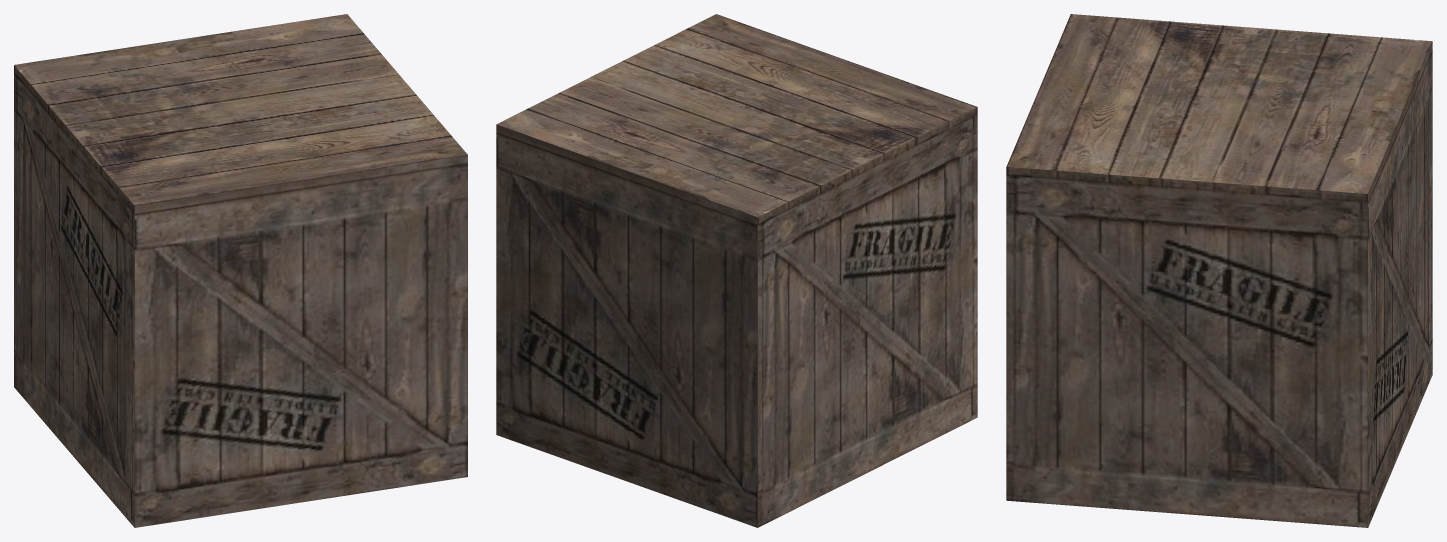
Rendered from Wooden_box_v1_LD1square (23).glb.
The picture shows the model from 3 angles, left to right: view 1: azimuth 30°, elevation 25°; view 2: azimuth 150°, elevation 25°; view 3: azimuth 270°, elevation 25°; orthographic projection. The views are drawn at different scales.
Visible parts, largest first — view 1: Wooden_box_v1_LD1square (23); view 2: Wooden_box_v1_LD1square (23); view 3: Wooden_box_v1_LD1square (23).
Part boxes in pixels (box(x1,y1,x2,y2)): Wooden_box_v1_LD1square (23): box(14, 14, 467, 527); Wooden_box_v1_LD1square (23): box(496, 14, 977, 527); Wooden_box_v1_LD1square (23): box(1006, 14, 1432, 527).
Bounding box in the file's own units: 0.9396 × 0.8124 × 0.9396.
1 material, 1 textured.
